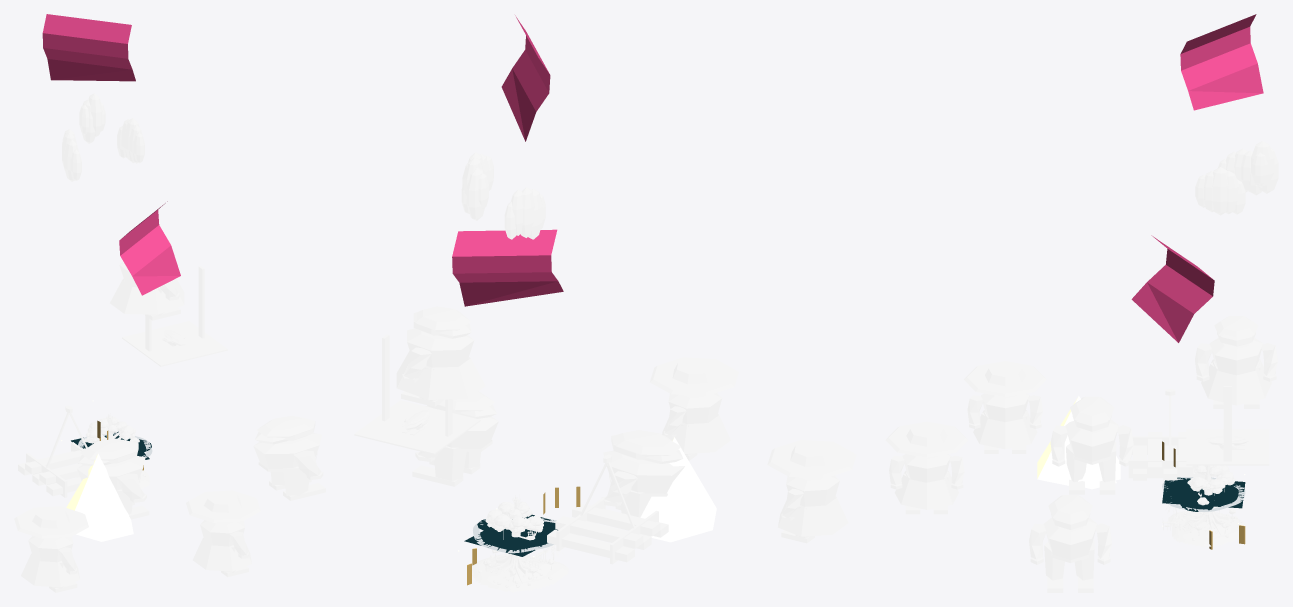
File: ile-arbre-v5.glb
3 views of the same model, side by side, from view 1: azimuth 30°, elevation 25°; view 2: azimuth 150°, elevation 25°; view 3: azimuth 270°, elevation 25° (orthographic). The views are drawn at different scales.
Parts seen in each view (by area): view 1: ile_banniere1.004, ile_copie1.007, ile_copie0.011, ile_anime3.016, ile_anime2.018, ile_banniere0.006, ile_libre0.016, ile_anime4.012, ile_anime0.018, ile_anime1.018, ile_anime5.010, ile_corps.018 (+1 smaller); view 2: ile_banniere0.006, ile_anime5.010, ile_copie0.011, ile_anime3.016, ile_anime1.018, ile_anime4.012, ile_anime2.018, ile_corps.018, ile_copie1.007, ile_libre0.016, ile_anime0.018, ile_banniere1.004 (+1 smaller); view 3: ile_anime3.016, ile_copie0.011, ile_anime5.010, ile_banniere1.004, ile_copie1.007, ile_anime4.012, ile_banniere0.006, ile_anime0.018, ile_anime2.018, ile_corps.018, ile_anime1.018, ile_libre1.008 (+1 smaller).
Part boxes in pixels (x1=…): ile_banniere1.004: x1=42, y1=14, x2=135, y2=81; ile_copie1.007: x1=253, y1=415, x2=325, y2=500; ile_copie0.011: x1=14, y1=506, x2=88, y2=592; ile_anime3.016: x1=186, y1=490, x2=260, y2=577; ile_anime2.018: x1=122, y1=266, x2=227, y2=366; ile_banniere0.006: x1=119, y1=201, x2=180, y2=295; ile_libre0.016: x1=66, y1=453, x2=133, y2=541; ile_anime4.012: x1=77, y1=438, x2=149, y2=519; ile_anime0.018: x1=62, y1=93, x2=144, y2=181; ile_anime1.018: x1=18, y1=405, x2=87, y2=497; ile_anime5.010: x1=110, y1=242, x2=184, y2=320; ile_corps.018: x1=77, y1=413, x2=150, y2=488; ile_banniere0.006: x1=452, y1=229, x2=563, y2=306; ile_anime5.010: x1=396, y1=306, x2=485, y2=406; ile_copie0.011: x1=767, y1=440, x2=856, y2=543; ile_anime3.016: x1=650, y1=357, x2=738, y2=460; ile_anime1.018: x1=547, y1=454, x2=668, y2=564; ile_anime4.012: x1=601, y1=430, x2=684, y2=517; ile_anime2.018: x1=354, y1=334, x2=480, y2=454; ile_corps.018: x1=472, y1=494, x2=568, y2=592; ile_copie1.007: x1=412, y1=391, x2=498, y2=486; ile_libre0.016: x1=640, y1=437, x2=716, y2=542; ile_anime0.018: x1=461, y1=152, x2=545, y2=239; ile_banniere1.004: x1=501, y1=15, x2=550, y2=141; ile_anime3.016: x1=885, y1=421, x2=968, y2=514; ile_copie0.011: x1=964, y1=361, x2=1046, y2=453; ile_anime5.010: x1=1195, y1=316, x2=1277, y2=408; ile_banniere1.004: x1=1180, y1=14, x2=1263, y2=110; ile_copie1.007: x1=1029, y1=495, x2=1111, y2=592; ile_anime4.012: x1=1050, y1=396, x2=1133, y2=494; ile_banniere0.006: x1=1131, y1=235, x2=1214, y2=342; ile_anime0.018: x1=1195, y1=141, x2=1278, y2=215; ile_anime2.018: x1=1186, y1=386, x2=1269, y2=465; ile_corps.018: x1=1162, y1=465, x2=1245, y2=546; ile_anime1.018: x1=1128, y1=389, x2=1211, y2=480; ile_libre1.008: x1=1162, y1=477, x2=1245, y2=511.
Size of the model in its own units: 9.95 by 13.14 by 9.45.
